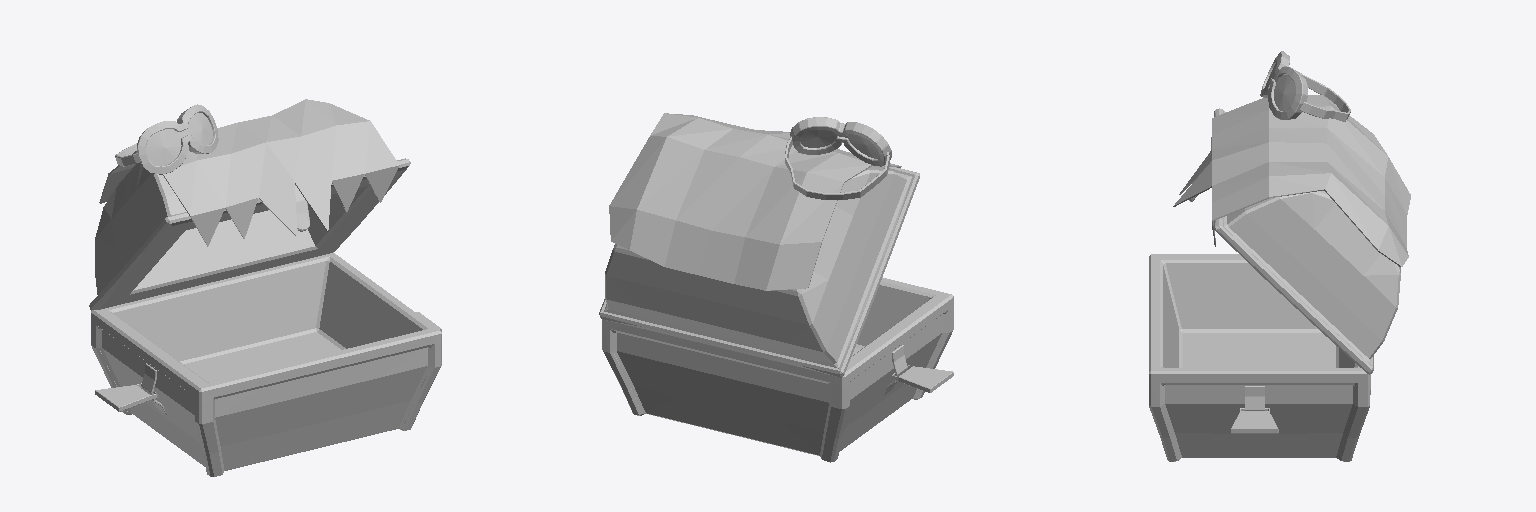
Rendered from Cofre.obj.
3 renders of one model, left to right at view 1: azimuth 30°, elevation 25°; view 2: azimuth 150°, elevation 25°; view 3: azimuth 270°, elevation 25°, orthographic.
Parts seen in each view (by area): view 1: Torus001, Glass001; view 2: Torus001, Glass001; view 3: Torus001, Glass001.
Boxes of the visible parts, x1=… form: Torus001: x1=89, y1=99, x2=441, y2=476; Glass001: x1=146, y1=113, x2=212, y2=165; Torus001: x1=599, y1=113, x2=953, y2=462; Glass001: x1=800, y1=130, x2=879, y2=158; Torus001: x1=1149, y1=51, x2=1410, y2=461; Glass001: x1=1265, y1=62, x2=1295, y2=111.
Size of the model in its own units: 59.47 by 55.5 by 41.88.